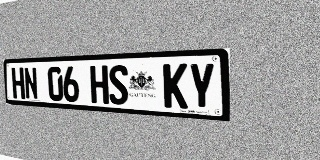0: (47, 66, 63, 101)
6: (62, 66, 79, 102)
H: (90, 65, 109, 104), (11, 67, 25, 99)
K: (163, 63, 188, 109)
N: (24, 67, 38, 100)
S: (108, 65, 129, 105)
Y: (188, 63, 215, 110)
